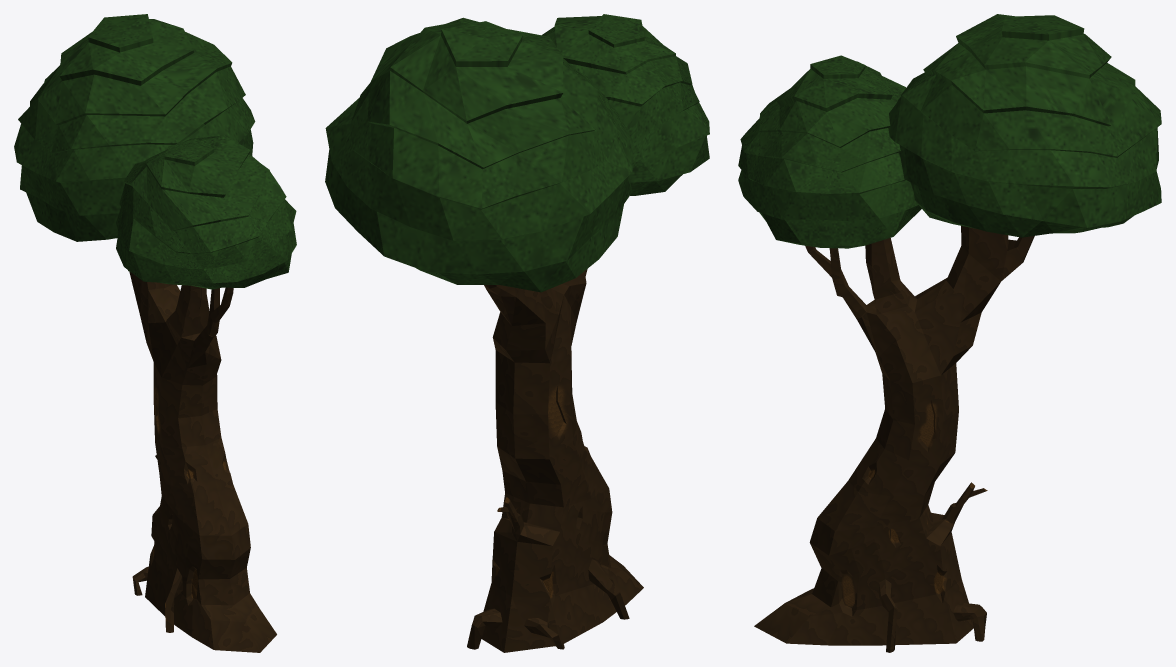
Rendered from SwampTree2.fbx.
3 views of the same model, side by side, from view 1: azimuth 30°, elevation 25°; view 2: azimuth 150°, elevation 25°; view 3: azimuth 270°, elevation 25° (orthographic). The views are drawn at different scales.
Parts seen in each view (by area): view 1: Lystya1, tree2, Lystya2; view 2: Lystya1, tree2, Lystya2; view 3: tree2, Lystya1, Lystya2.
Boxes of the visible parts, x1=… form: Lystya1: x1=14, y1=14, x2=255, y2=241; tree2: x1=129, y1=271, x2=276, y2=652; Lystya2: x1=116, y1=135, x2=296, y2=289; Lystya1: x1=325, y1=17, x2=632, y2=292; tree2: x1=467, y1=269, x2=643, y2=652; Lystya2: x1=542, y1=14, x2=709, y2=195; tree2: x1=754, y1=226, x2=1034, y2=652; Lystya1: x1=888, y1=14, x2=1161, y2=237; Lystya2: x1=738, y1=55, x2=921, y2=248.
Bounding box in the file's own units: 2.39 × 5.78 × 3.69.
